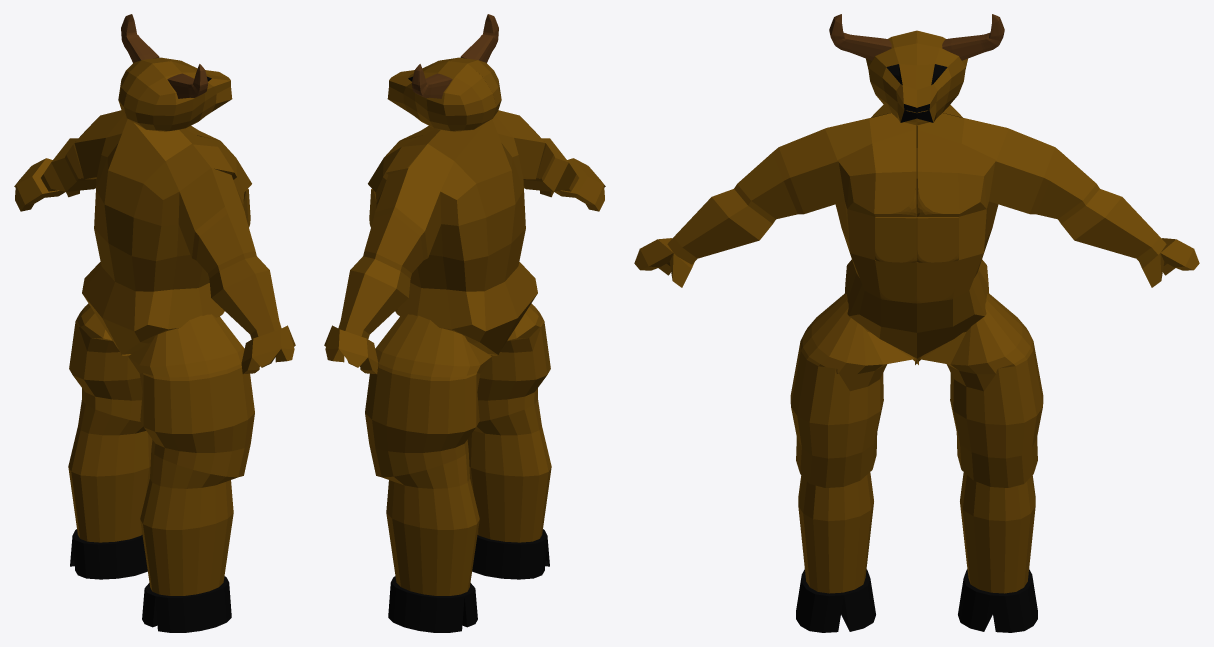
File: SmallMonster02.fbx
The picture shows the model from 3 angles, left to right: view 1: azimuth 30°, elevation 25°; view 2: azimuth 150°, elevation 25°; view 3: azimuth 270°, elevation 25°; orthographic projection. The views are drawn at different scales.
Visible parts, largest first — view 1: Cube.024; view 2: Cube.024; view 3: Cube.024.
Part boxes in pixels (x1,y1,x2,y2): Cube.024: (14, 14, 295, 632); Cube.024: (324, 14, 605, 632); Cube.024: (634, 14, 1199, 632).
Size of the model in its own units: 380 by 1495 by 1261.
